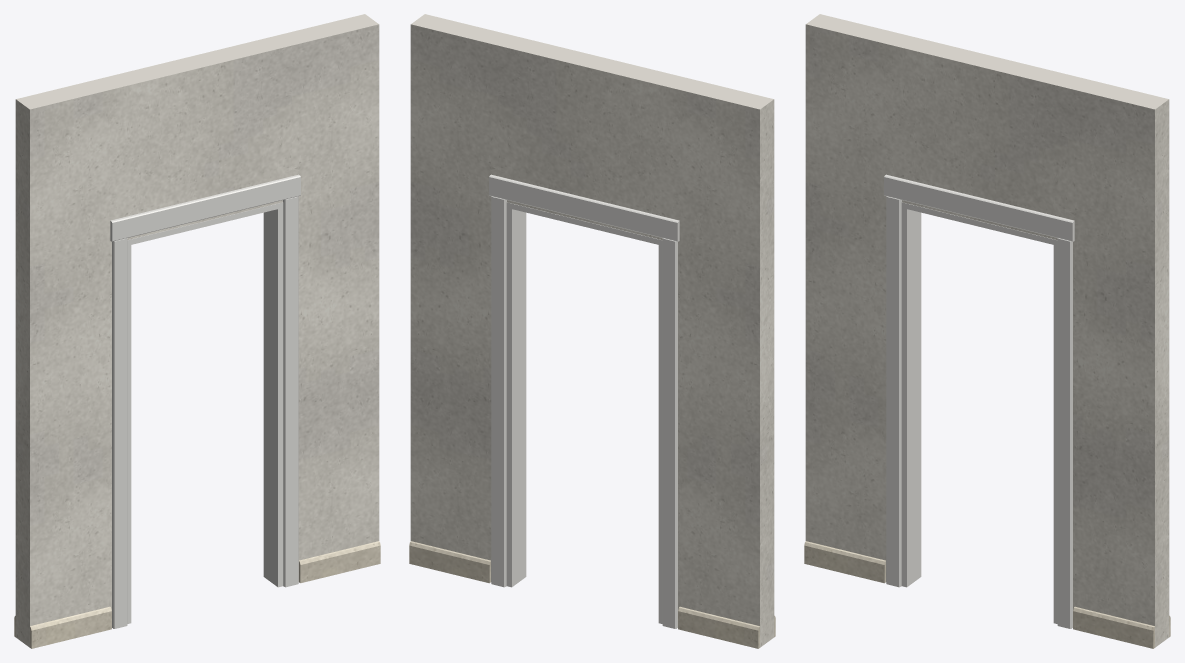
File: iw_doorway.glb
3 views of the same model, side by side, from view 1: azimuth 30°, elevation 25°; view 2: azimuth 150°, elevation 25°; view 3: azimuth 330°, elevation 25° (orthographic).
Visible parts, largest first — view 1: iw_doorway_plaster, iw_doorway_frame, iw_doorway_trim; view 2: iw_doorway_plaster, iw_doorway_frame, iw_doorway_trim; view 3: iw_doorway_plaster, iw_doorway_frame, iw_doorway_trim.
Part boxes in pixels (<box>): iw_doorway_plaster: <box>15,14,379,647</box>; iw_doorway_frame: <box>110,174,300,628</box>; iw_doorway_trim: <box>14,541,380,648</box>; iw_doorway_plaster: <box>410,14,774,647</box>; iw_doorway_frame: <box>489,174,679,628</box>; iw_doorway_trim: <box>409,541,775,648</box>; iw_doorway_plaster: <box>805,14,1169,647</box>; iw_doorway_frame: <box>884,174,1074,628</box>; iw_doorway_trim: <box>804,541,1170,648</box>.
Bounding box in the file's own units: 2 × 2.94 × 0.18.
Materials: 3 (2 with a texture image).
